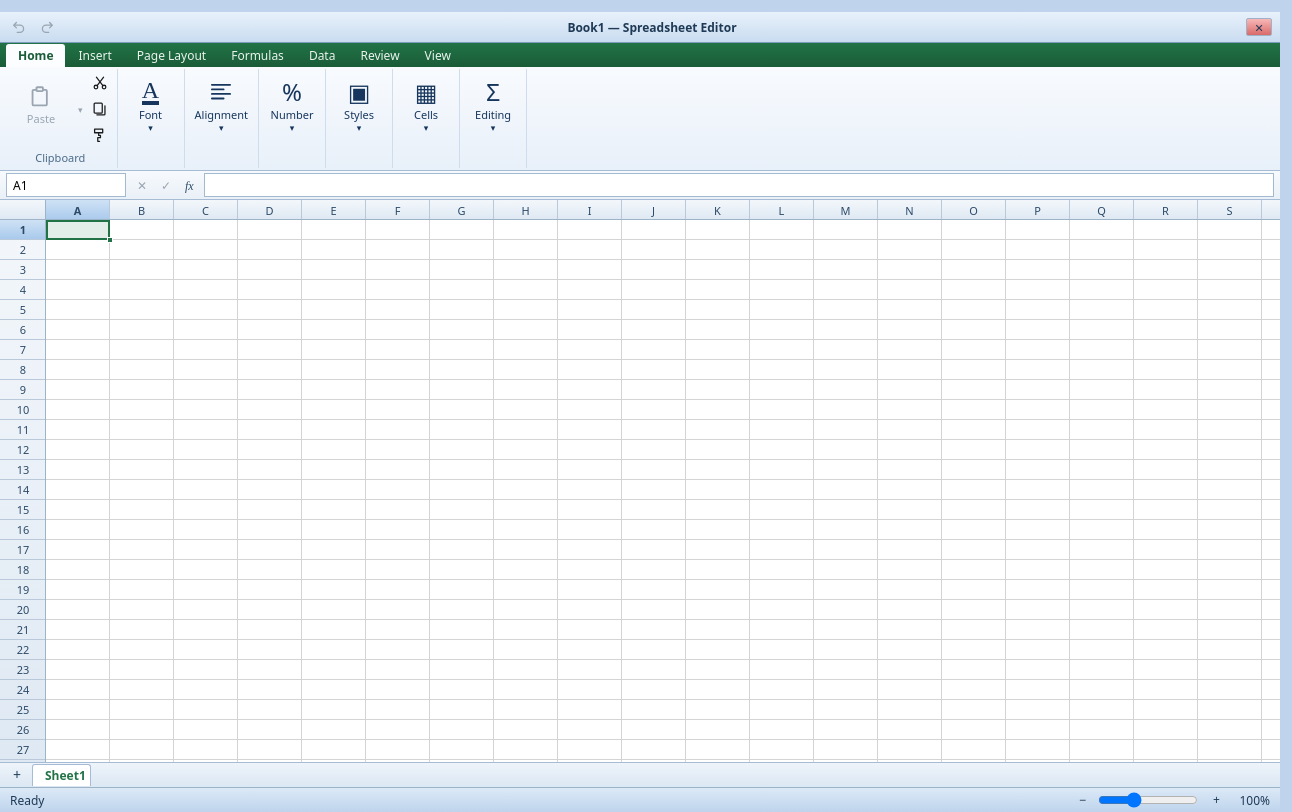
Test: SpreadsheetShell › honesty of the controls › puts every group Excel has where Excel puts it
Click the tab "Insert" at x=95, y=56, box [66,44,124,67]
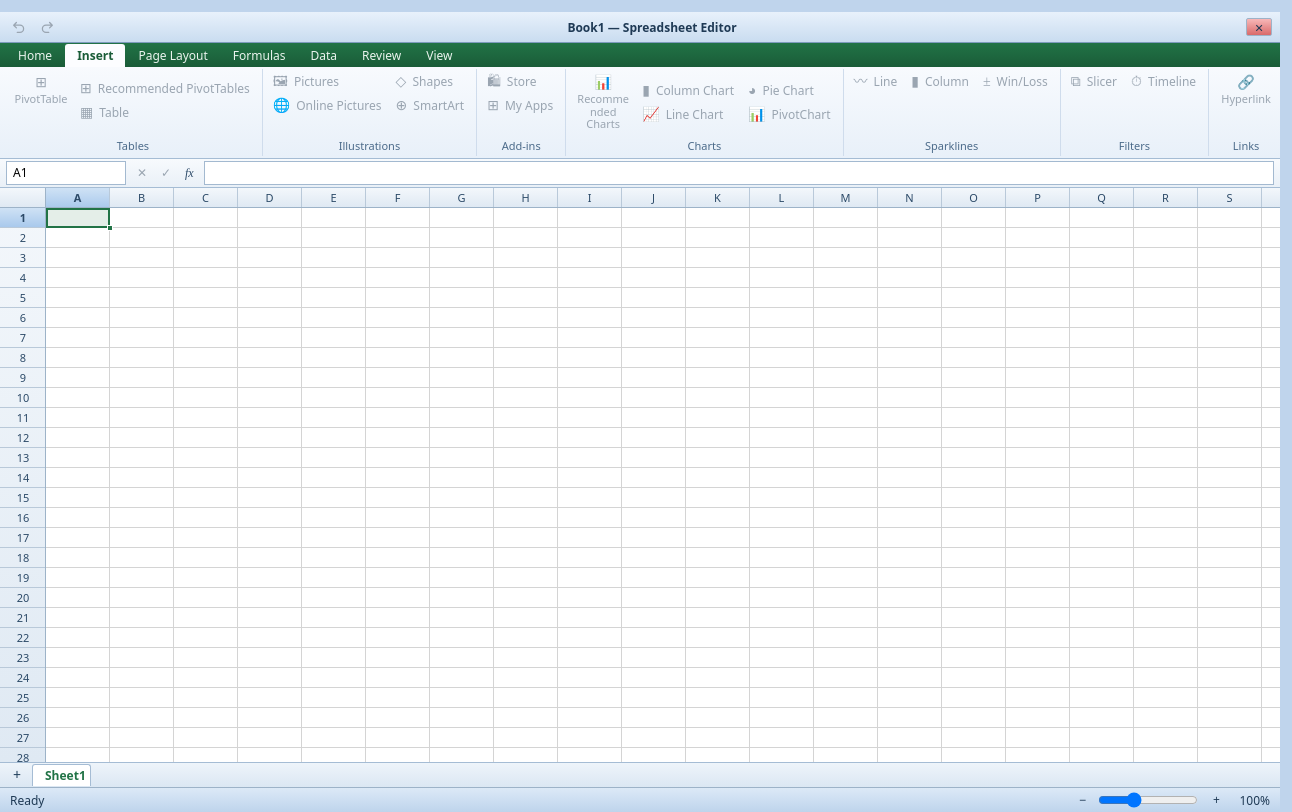
Click the tab "Page Layout" at x=173, y=56, box [126,44,220,67]
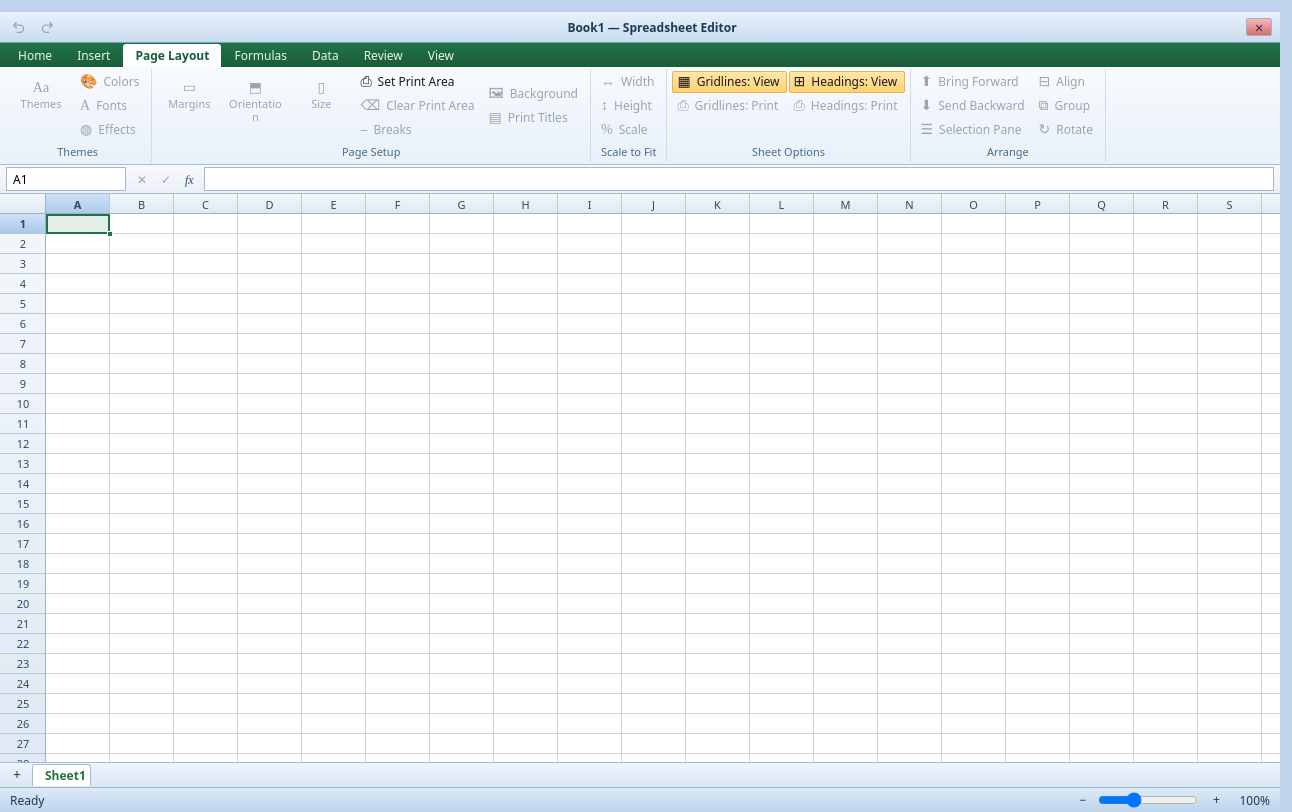
Result: the element named "Page Setup group" is shown at [152,69,591,162]
Click the tab "Data" at x=325, y=56, box [300,44,351,67]
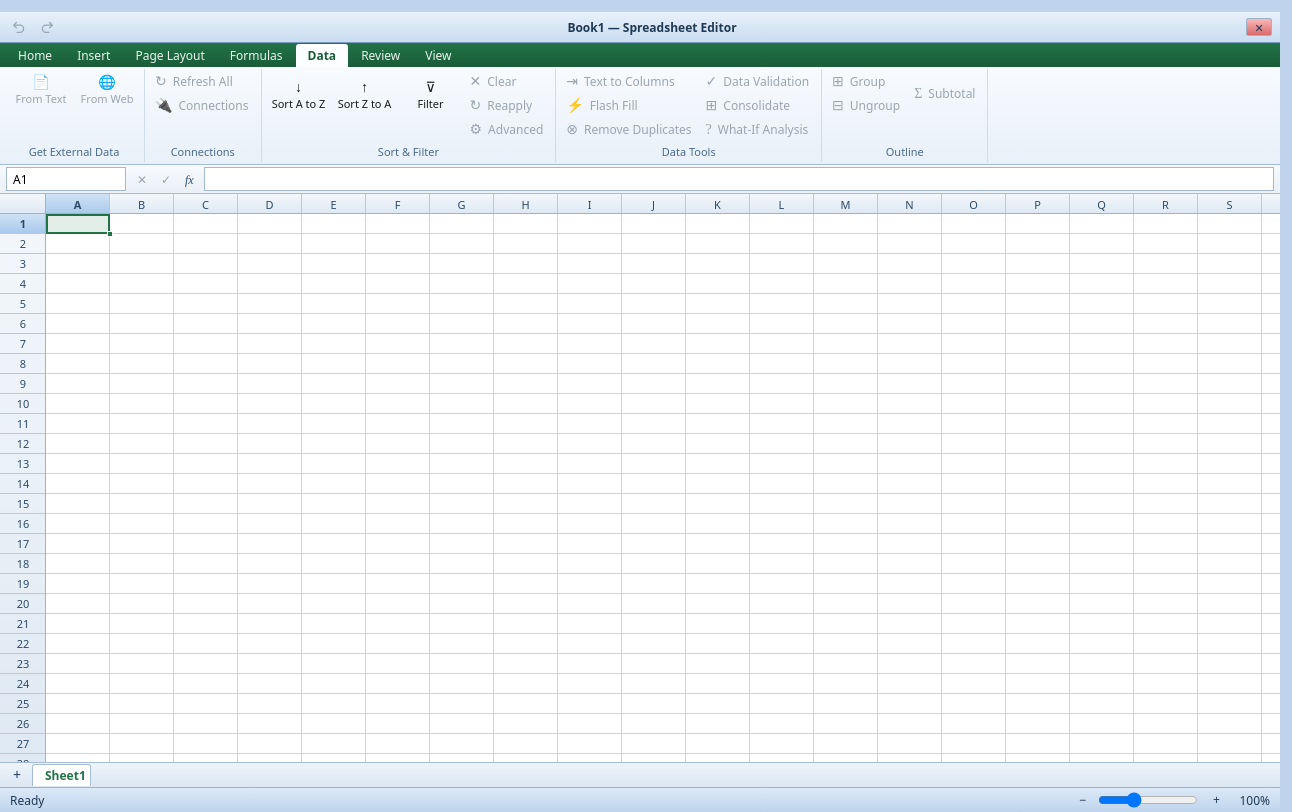
Click the tab "Review" at x=381, y=56, box [349,44,412,67]
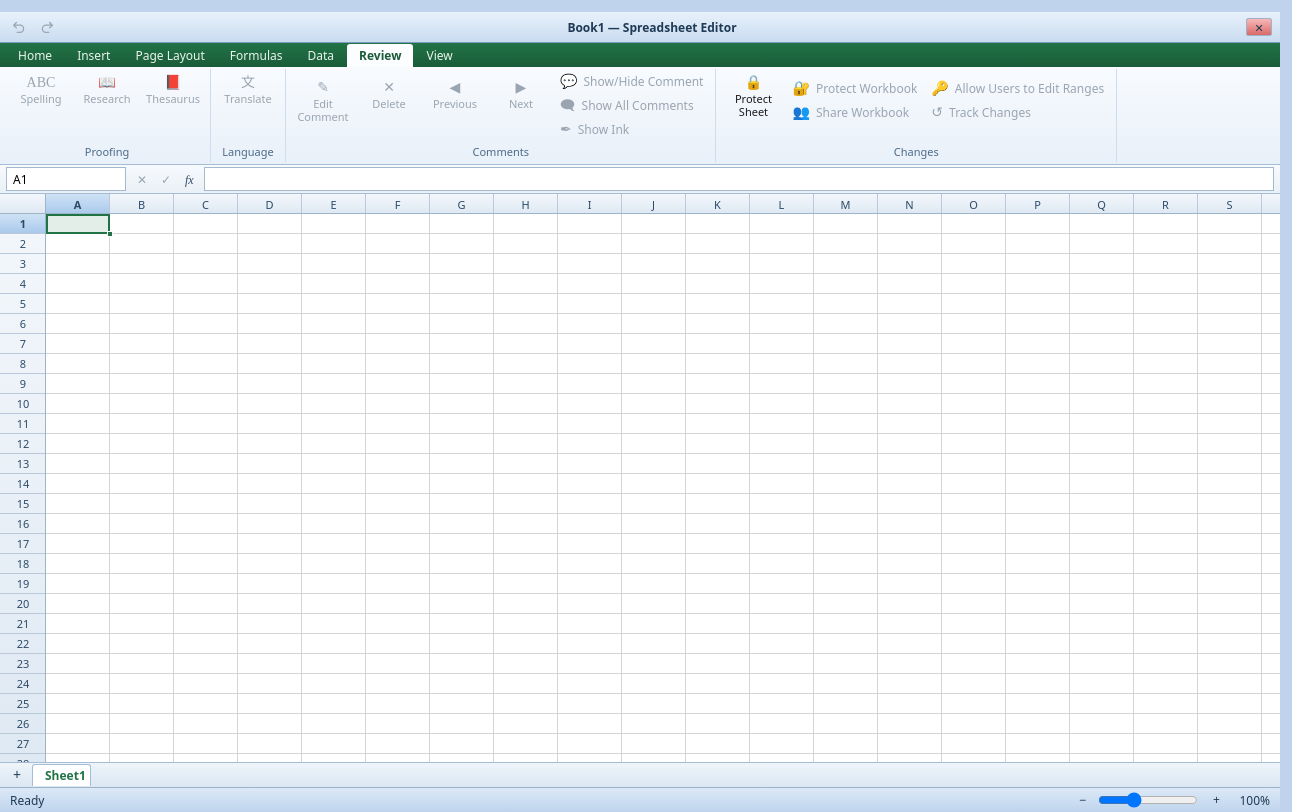
Click the tab "View" at x=440, y=56, box [414,44,465,67]
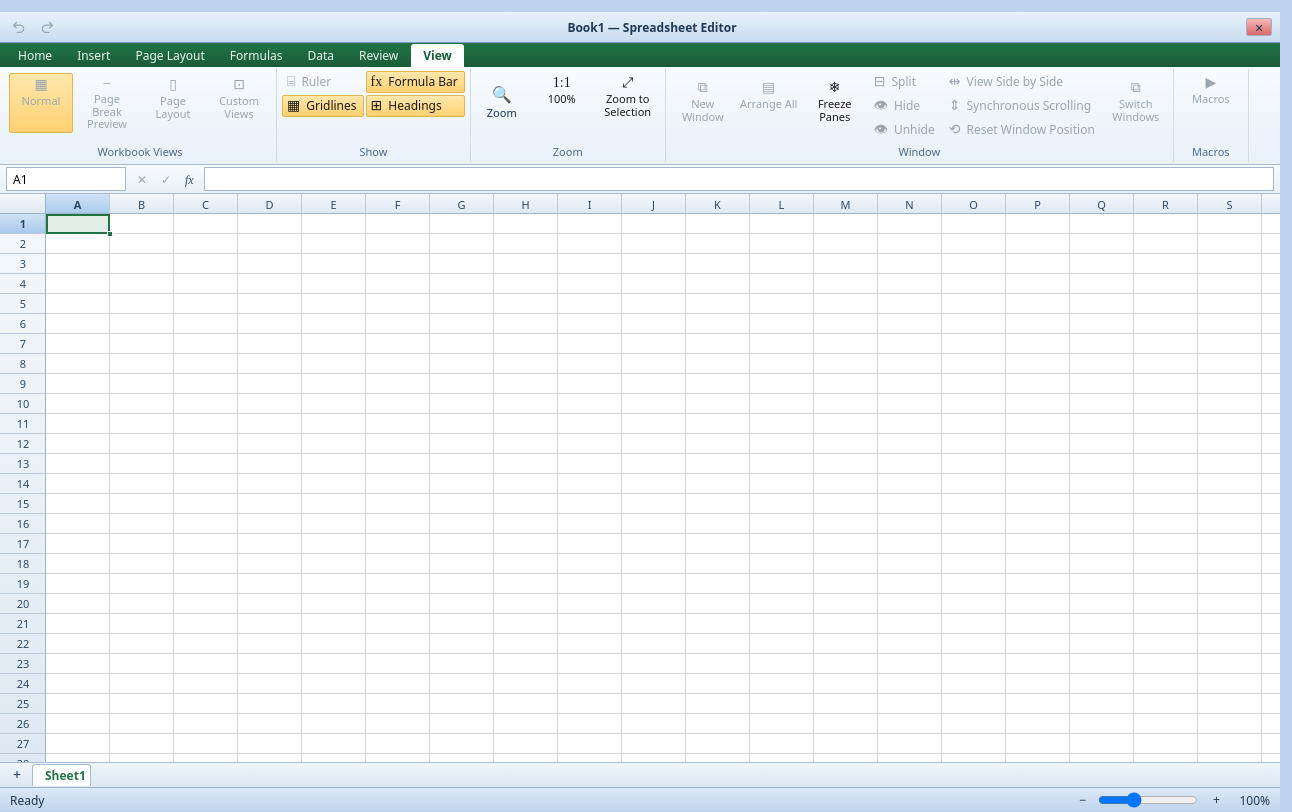
Result: the element named "Show group" is shown at [277,69,471,162]
